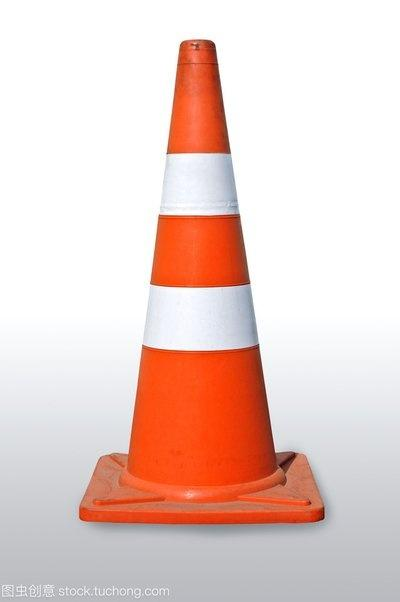cone_barrel: (110, 44, 292, 503)
